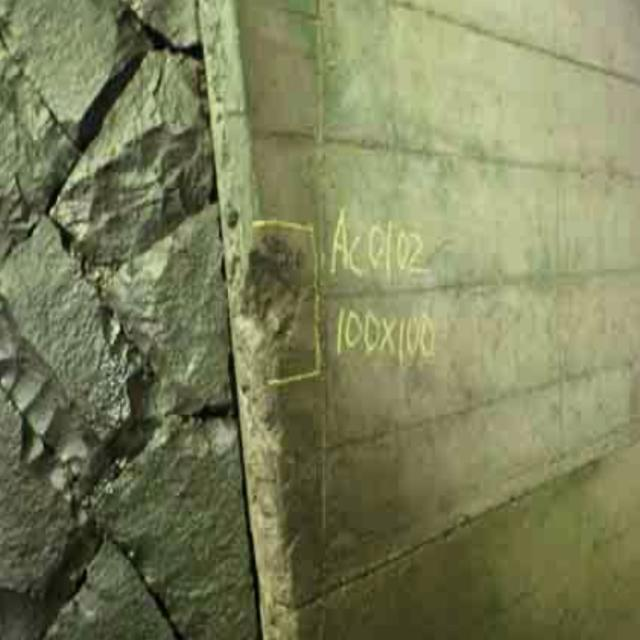spalling: (240, 217, 319, 374)
